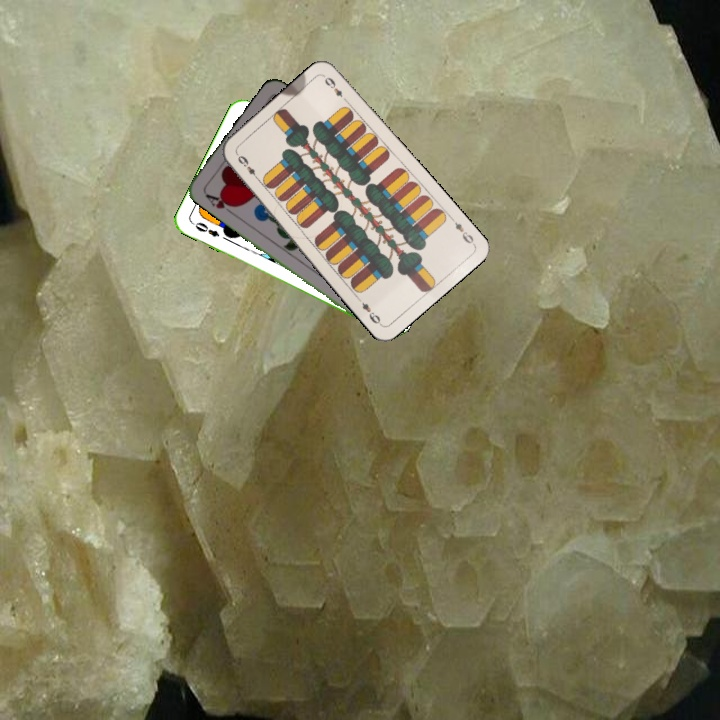E9: (232, 150, 262, 184), (447, 213, 477, 247)
EO: (188, 218, 222, 239)
HA: (201, 189, 239, 217)
